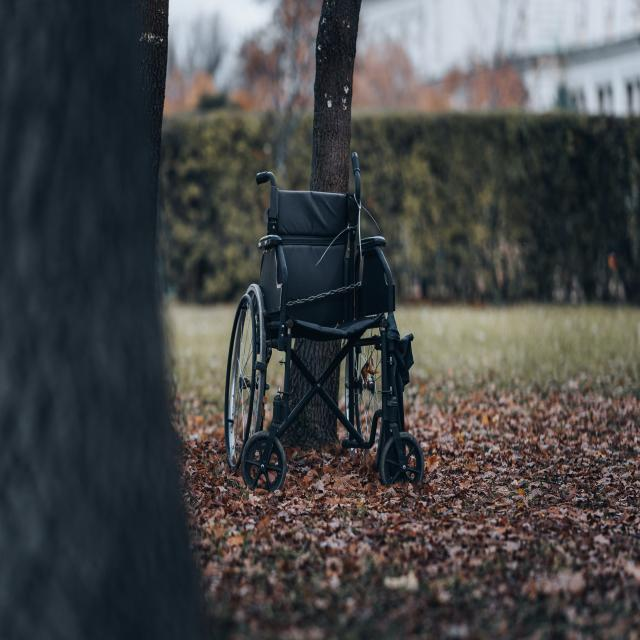wheelchairs: (226, 163, 422, 493)
